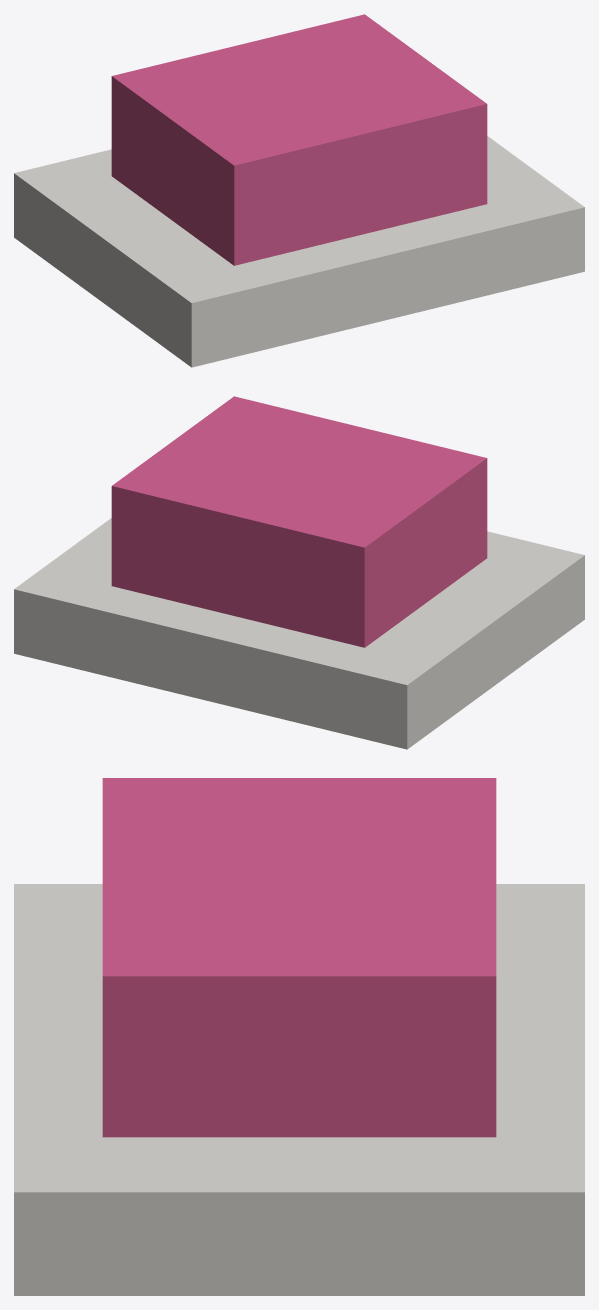
File: record_player-lv1.glb
3 views of the same model, one above another, from view 1: azimuth 30°, elevation 25°; view 2: azimuth 150°, elevation 25°; view 3: azimuth 270°, elevation 25° (orthographic). The views are drawn at different scales.
Visible parts, largest first — view 1: Level1, Base; view 2: Level1, Base; view 3: Level1, Base.
Boxes of the visible parts, bbox=[...] form: Level1: bbox=[111, 14, 487, 265]; Base: bbox=[14, 136, 584, 367]; Level1: bbox=[111, 396, 487, 647]; Base: bbox=[14, 518, 584, 749]; Level1: bbox=[102, 778, 496, 1137]; Base: bbox=[14, 884, 584, 1295].
Bounding box in the file's own units: 1.15 × 0.46 × 0.9.
